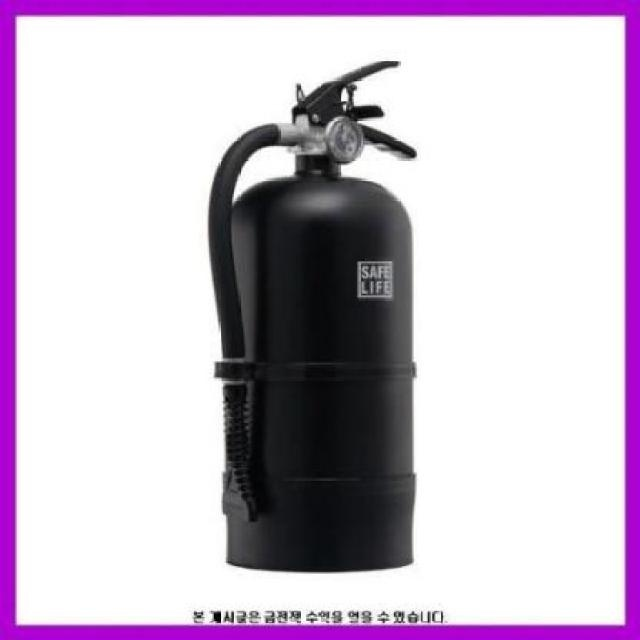fire extinguisher: (206, 58, 419, 573)
